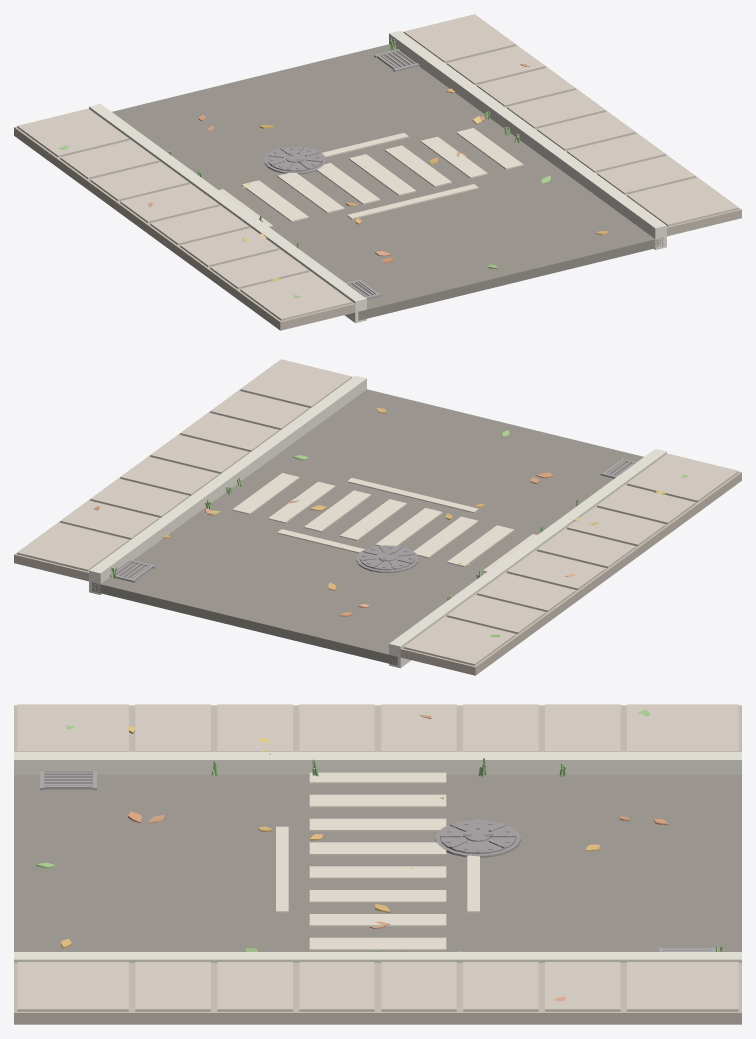
File: Road_Crosswalk_A.fbx
The picture shows the model from 3 angles, top to bottom: view 1: azimuth 30°, elevation 25°; view 2: azimuth 150°, elevation 25°; view 3: azimuth 270°, elevation 25°; orthographic projection. The views are drawn at different scales.
Parts seen in each view (by area): view 1: Road_Crosswalk_A, Road_Crosswalk_A_Veg; view 2: Road_Crosswalk_A, Road_Crosswalk_A_Veg; view 3: Road_Crosswalk_A, Road_Crosswalk_A_Veg.
Boxes of the visible parts, <box> form: Road_Crosswalk_A: <box>14,14,741,330</box>; Road_Crosswalk_A_Veg: <box>59,38,609,297</box>; Road_Crosswalk_A: <box>14,359,741,675</box>; Road_Crosswalk_A_Veg: <box>93,408,688,636</box>; Road_Crosswalk_A: <box>14,704,741,1024</box>; Road_Crosswalk_A_Veg: <box>36,709,722,1000</box>.
Bounding box in the file's own units: 8 × 0.4072 × 8.
